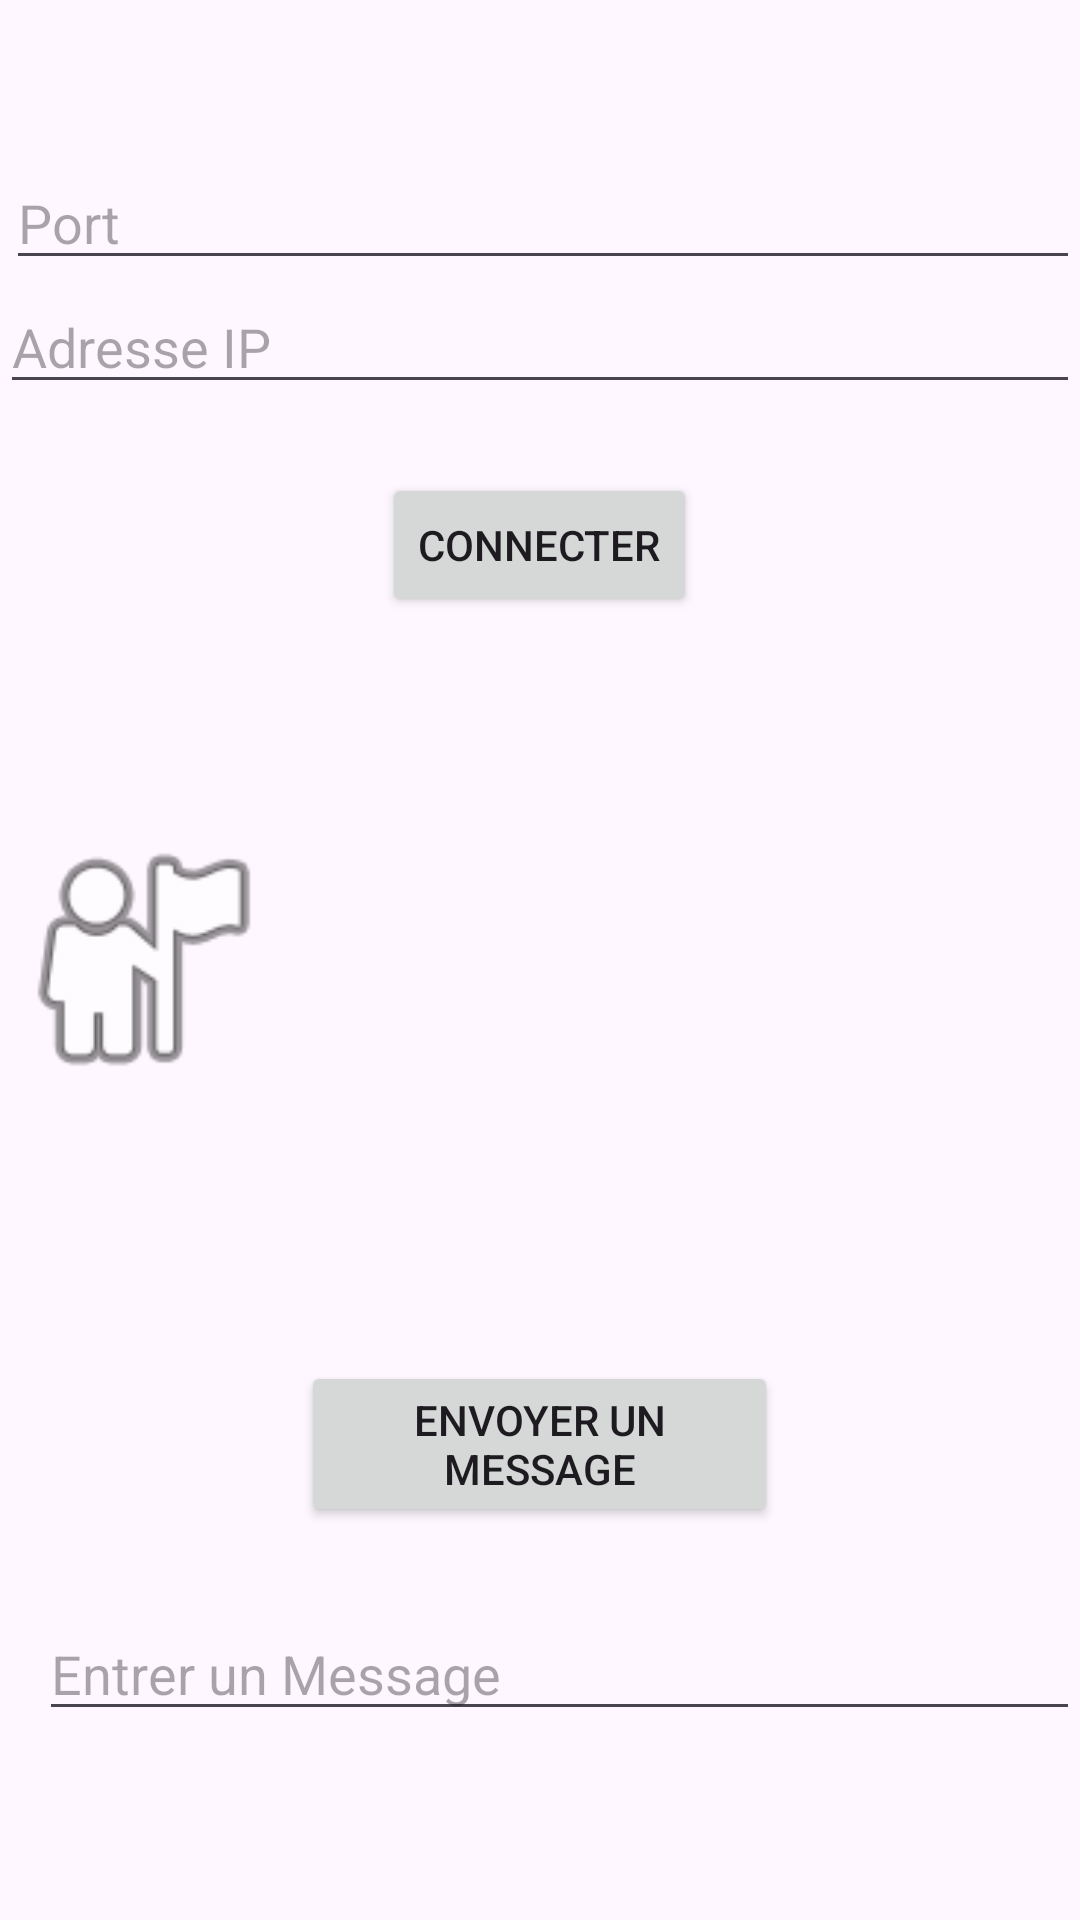

Where icons sit on this 1080 x 1920 app screen, as (x1, y1, x2, y2):
myplaces: (38, 854, 250, 1065)
